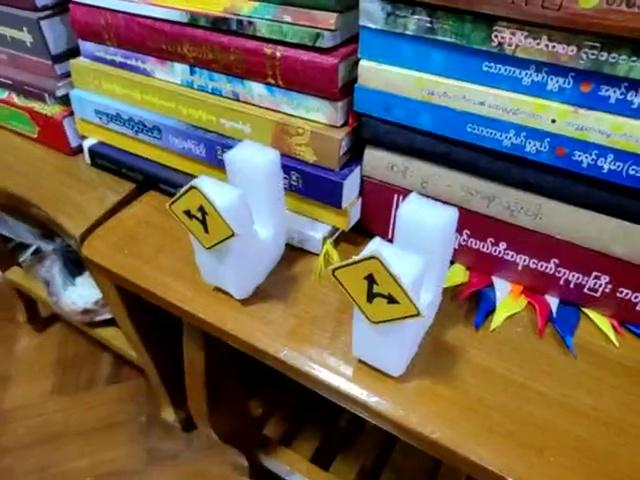Straight Or Left Sign: (166, 181, 238, 251)
Straight Or Right Sign: (327, 252, 423, 328)
